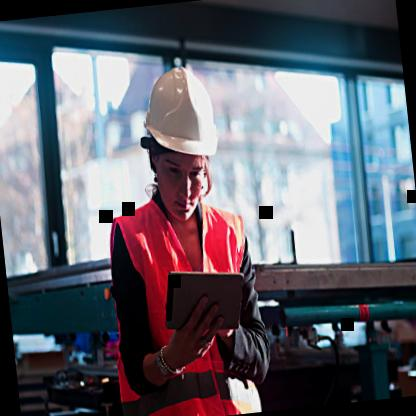helmet: (131, 44, 229, 231)
